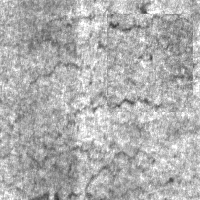crazing: (24, 1, 156, 86), (1, 130, 153, 198), (107, 14, 193, 112), (9, 81, 160, 135)
